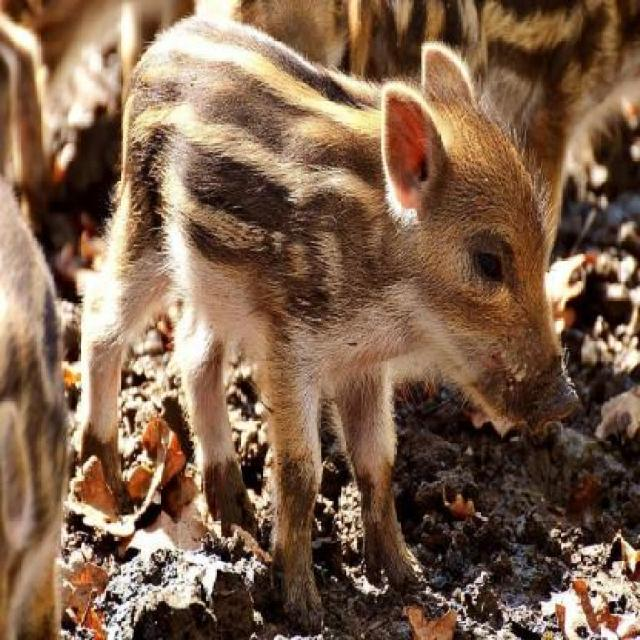Wild Boar: (69, 0, 583, 640)
